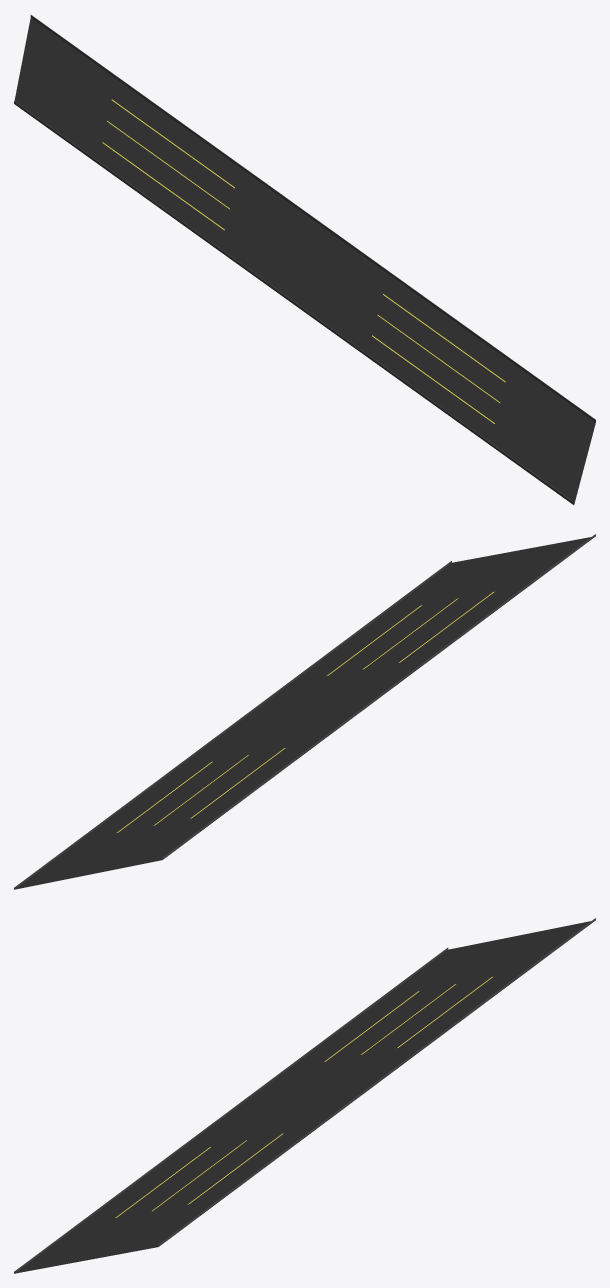
The model's file is RoadTemplateTestVisual.fbx.
3 renders of one model, top to bottom at view 1: azimuth 30°, elevation 25°; view 2: azimuth 150°, elevation 25°; view 3: azimuth 330°, elevation 25°, orthographic. The views are drawn at different scales.
Parts seen in each view (by area): view 1: Road; view 2: Road; view 3: Road.
Part boxes in pixels (x1,y1,x2,y2): Road: (14, 15, 595, 504); Road: (14, 534, 595, 889); Road: (14, 918, 595, 1273).
Size of the model in its own units: 8 by 0.18 by 80.
